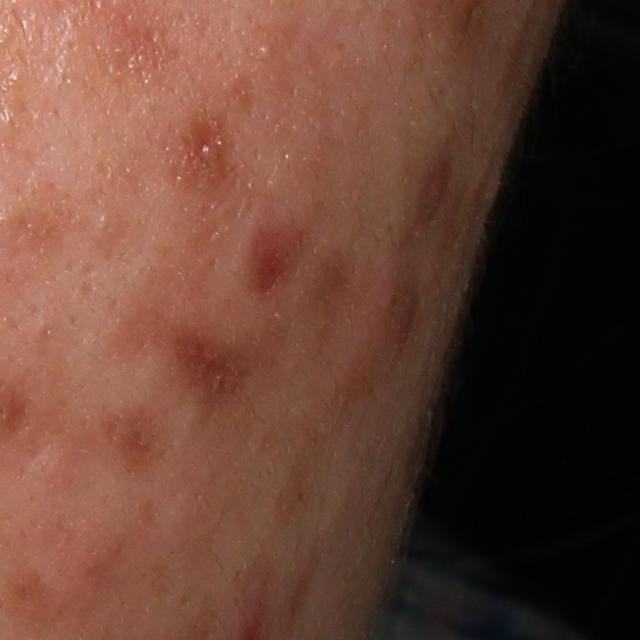comedo: (92, 211, 115, 234), (259, 43, 275, 60)
papule: (365, 271, 433, 366)
